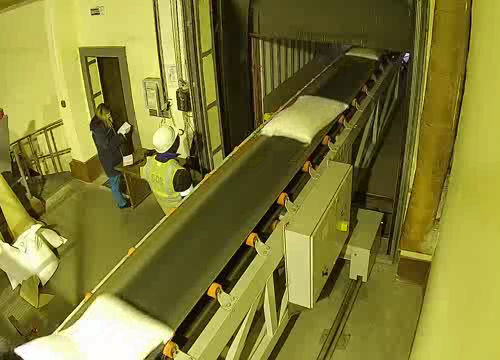bag: (4, 288, 181, 360), (254, 85, 354, 147), (340, 43, 390, 65)
